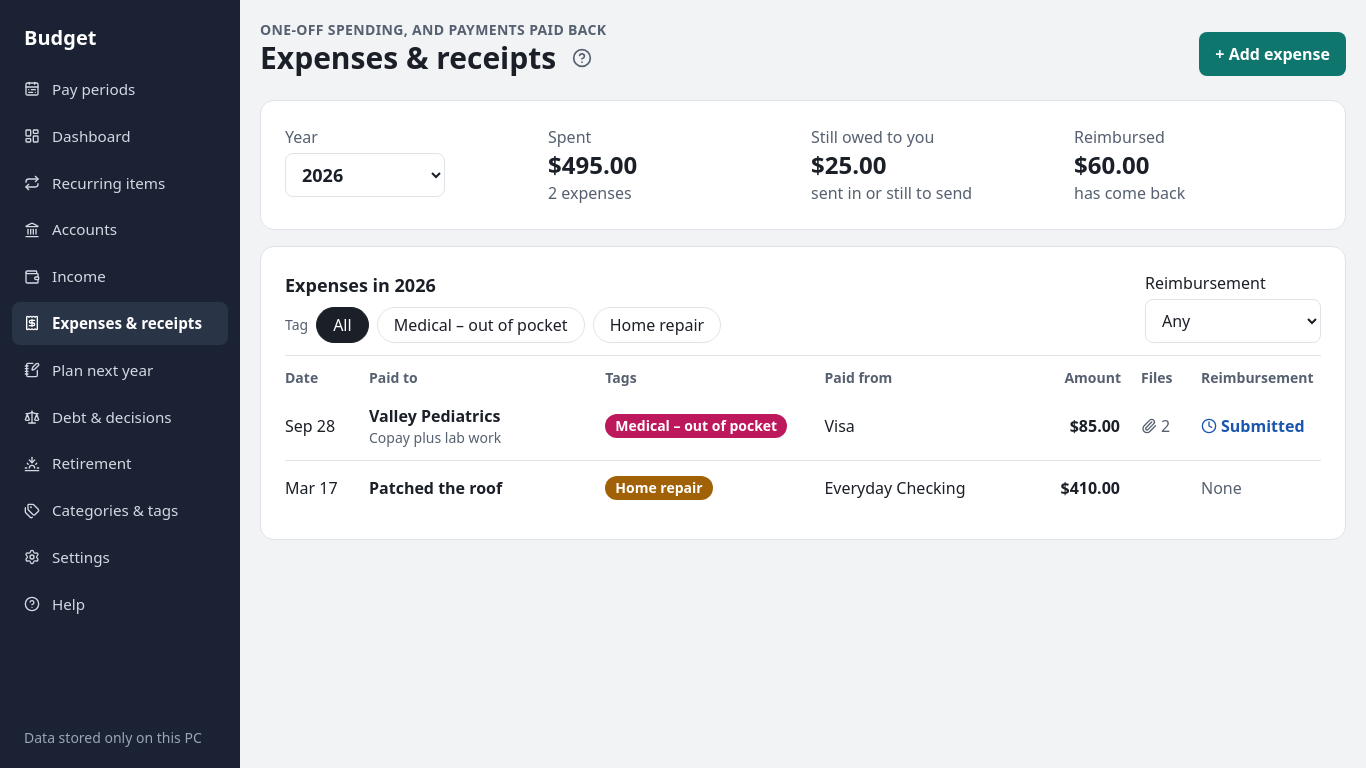
Test: Expenses & receipts › shows another year when one is chosen
Select "2024" in the dropdown labelled "Year" at (365, 175), box left=285, top=153, right=445, bottom=197
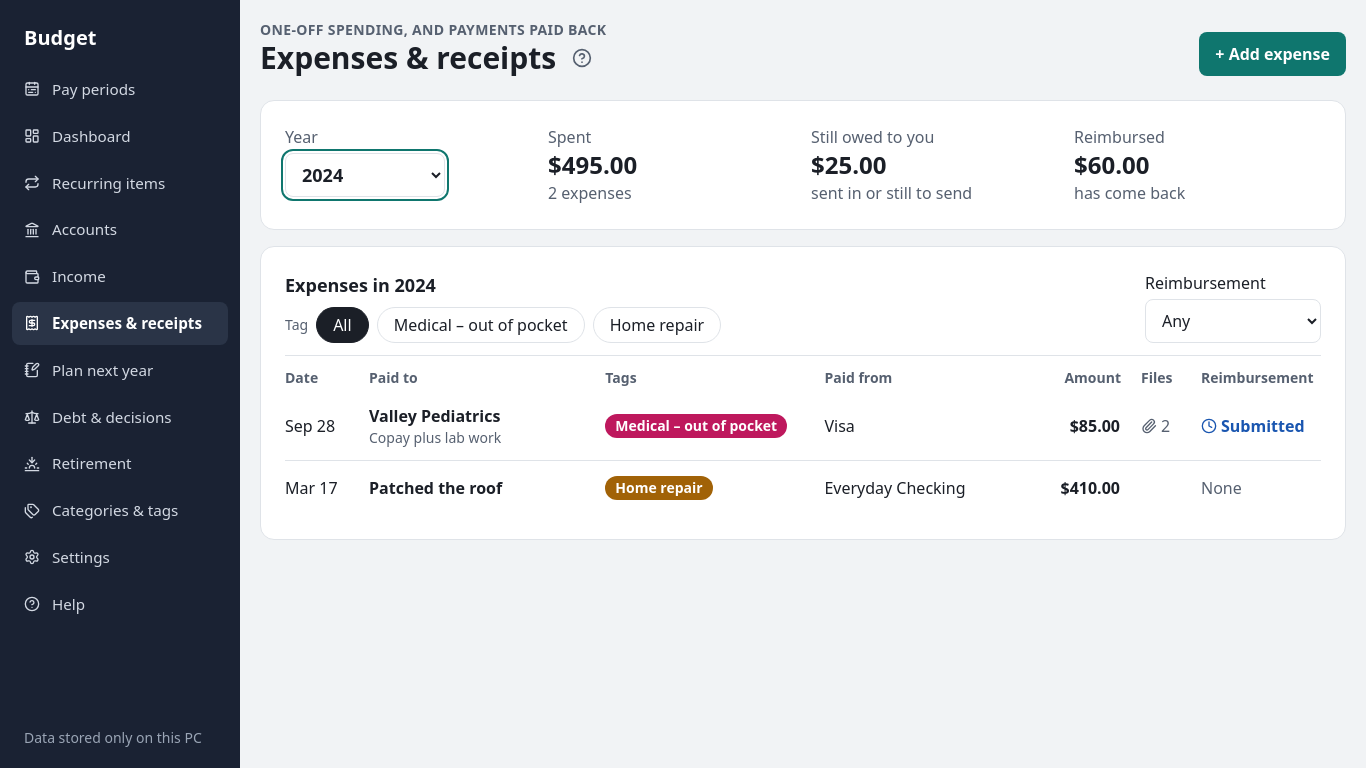
Expected: the heading "Expenses in 2024" is shown, left=285, top=273, right=436, bottom=297
